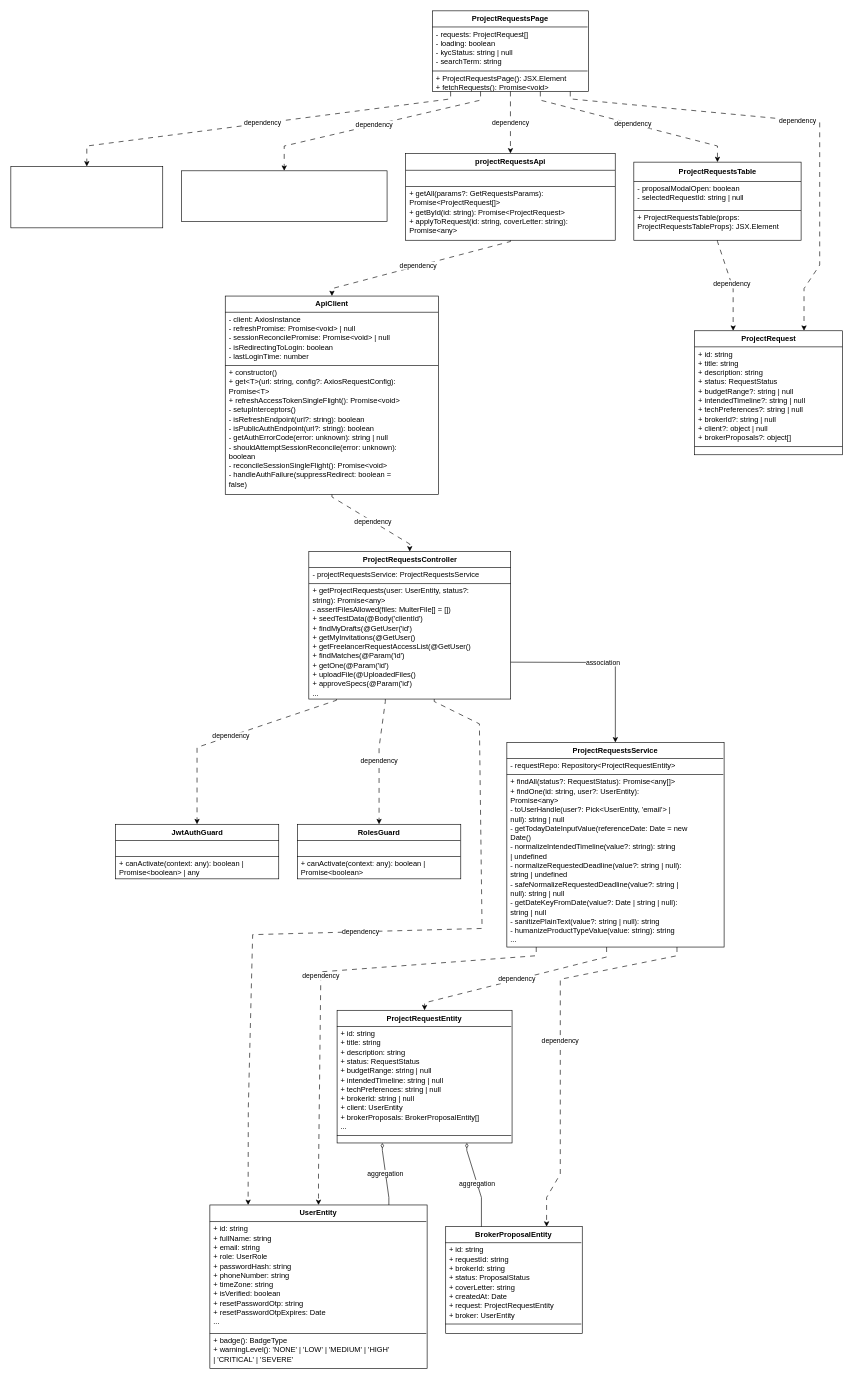
This 854x1380 diagram has some shape labels left out. The shapes that lost their labels are listed below. From the top down, each one's centre as x and y in pixels, then its label:
At (86,197): "useKYCStatus + useKYCStatus(): object + checkKycStatus(): Promise<string>".
At (284,196): "KYCBlocker + KYCBlocker(props: KYCBlockerProps): JSX.Element".
